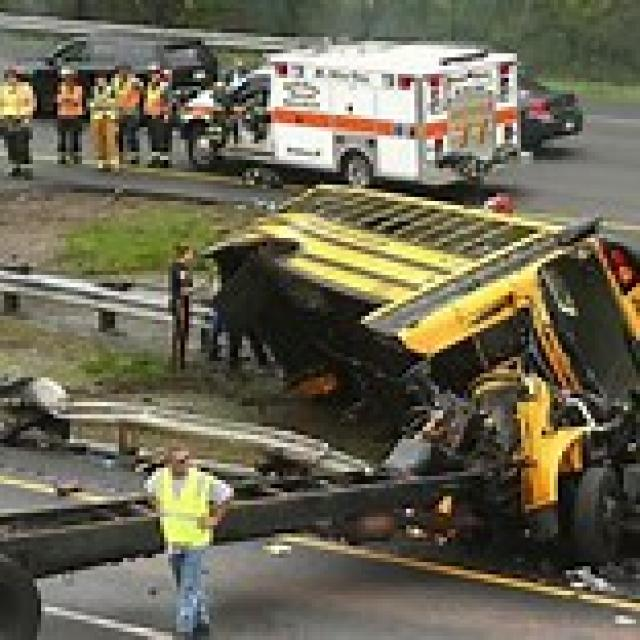Accident: (148, 141, 640, 622)
